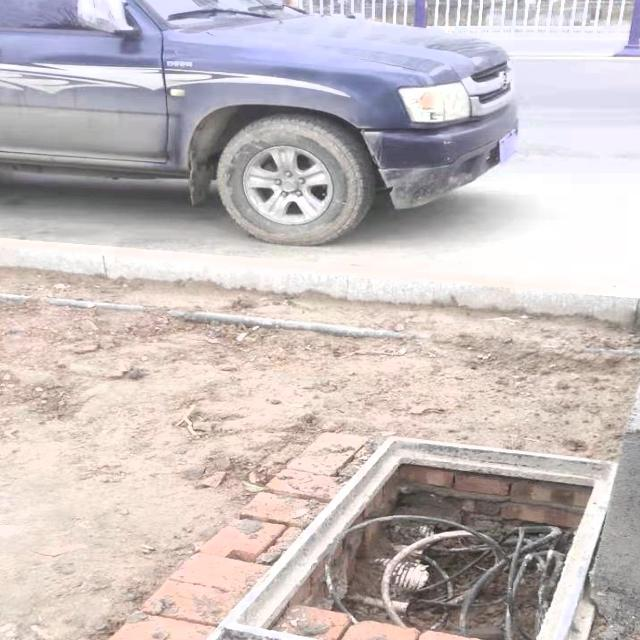lose: (195, 431, 621, 640)
